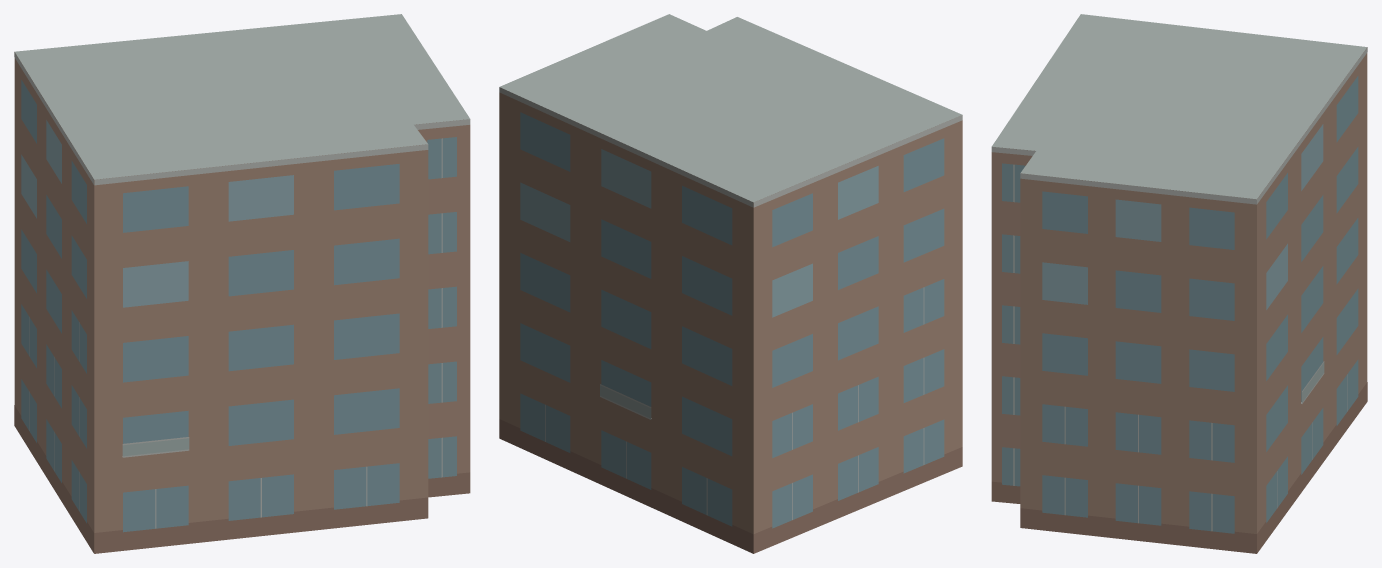
File: survey-upis-33025778.glb
3 renders of one model, left to right at view 1: azimuth 30°, elevation 25°; view 2: azimuth 150°, elevation 25°; view 3: azimuth 270°, elevation 25°, orthographic. The views are drawn at different scales.
Visible parts, largest first — view 1: survey-upis-33025778.tmp; view 2: survey-upis-33025778.tmp; view 3: survey-upis-33025778.tmp.
Part boxes in pixels (x1,y1,x2,y2): survey-upis-33025778.tmp: (14, 14, 470, 553); survey-upis-33025778.tmp: (499, 14, 962, 553); survey-upis-33025778.tmp: (991, 14, 1367, 553).
Size of the model in its own units: 18.04 by 16.1 by 15.47.
